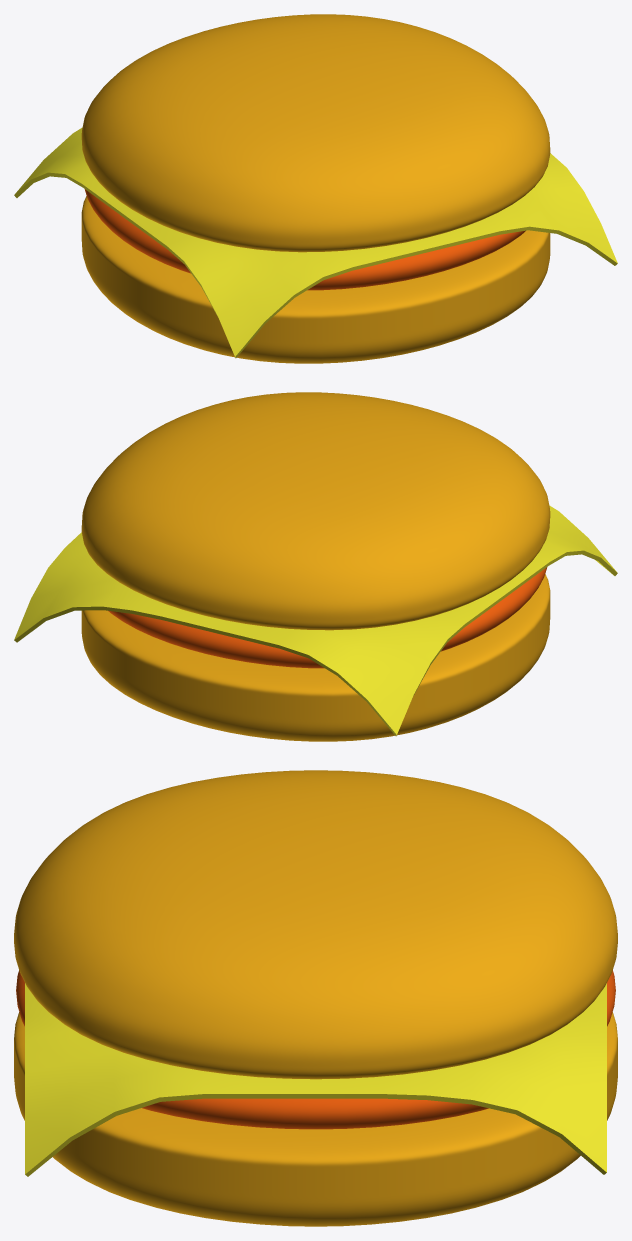
The model's file is hamburger.glb.
3 views of the same model, one above another, from view 1: azimuth 30°, elevation 25°; view 2: azimuth 150°, elevation 25°; view 3: azimuth 270°, elevation 25° (orthographic). The views are drawn at different scales.
Parts seen in each view (by area): view 1: 立方体.002, 立方体, Plane, 立方体.001; view 2: 立方体.002, 立方体, Plane, 立方体.001; view 3: 立方体.002, 立方体, Plane, 立方体.001.
Boxes of the visible parts, x1,y1,x2,y2 form: 立方体.002: (81,14,550,252); 立方体: (81,196,550,363); Plane: (14,127,617,358); 立方体.001: (84,189,525,290); 立方体.002: (81,392,550,630); 立方体: (81,574,550,741); Plane: (14,505,617,736); 立方体.001: (108,567,547,668); 立方体.002: (14,770,617,1079); 立方体: (14,1012,617,1226); Plane: (25,983,606,1176); 立方体.001: (16,970,615,1129).
Bounding box in the file's own units: 9.24 × 4.95 × 9.24.
